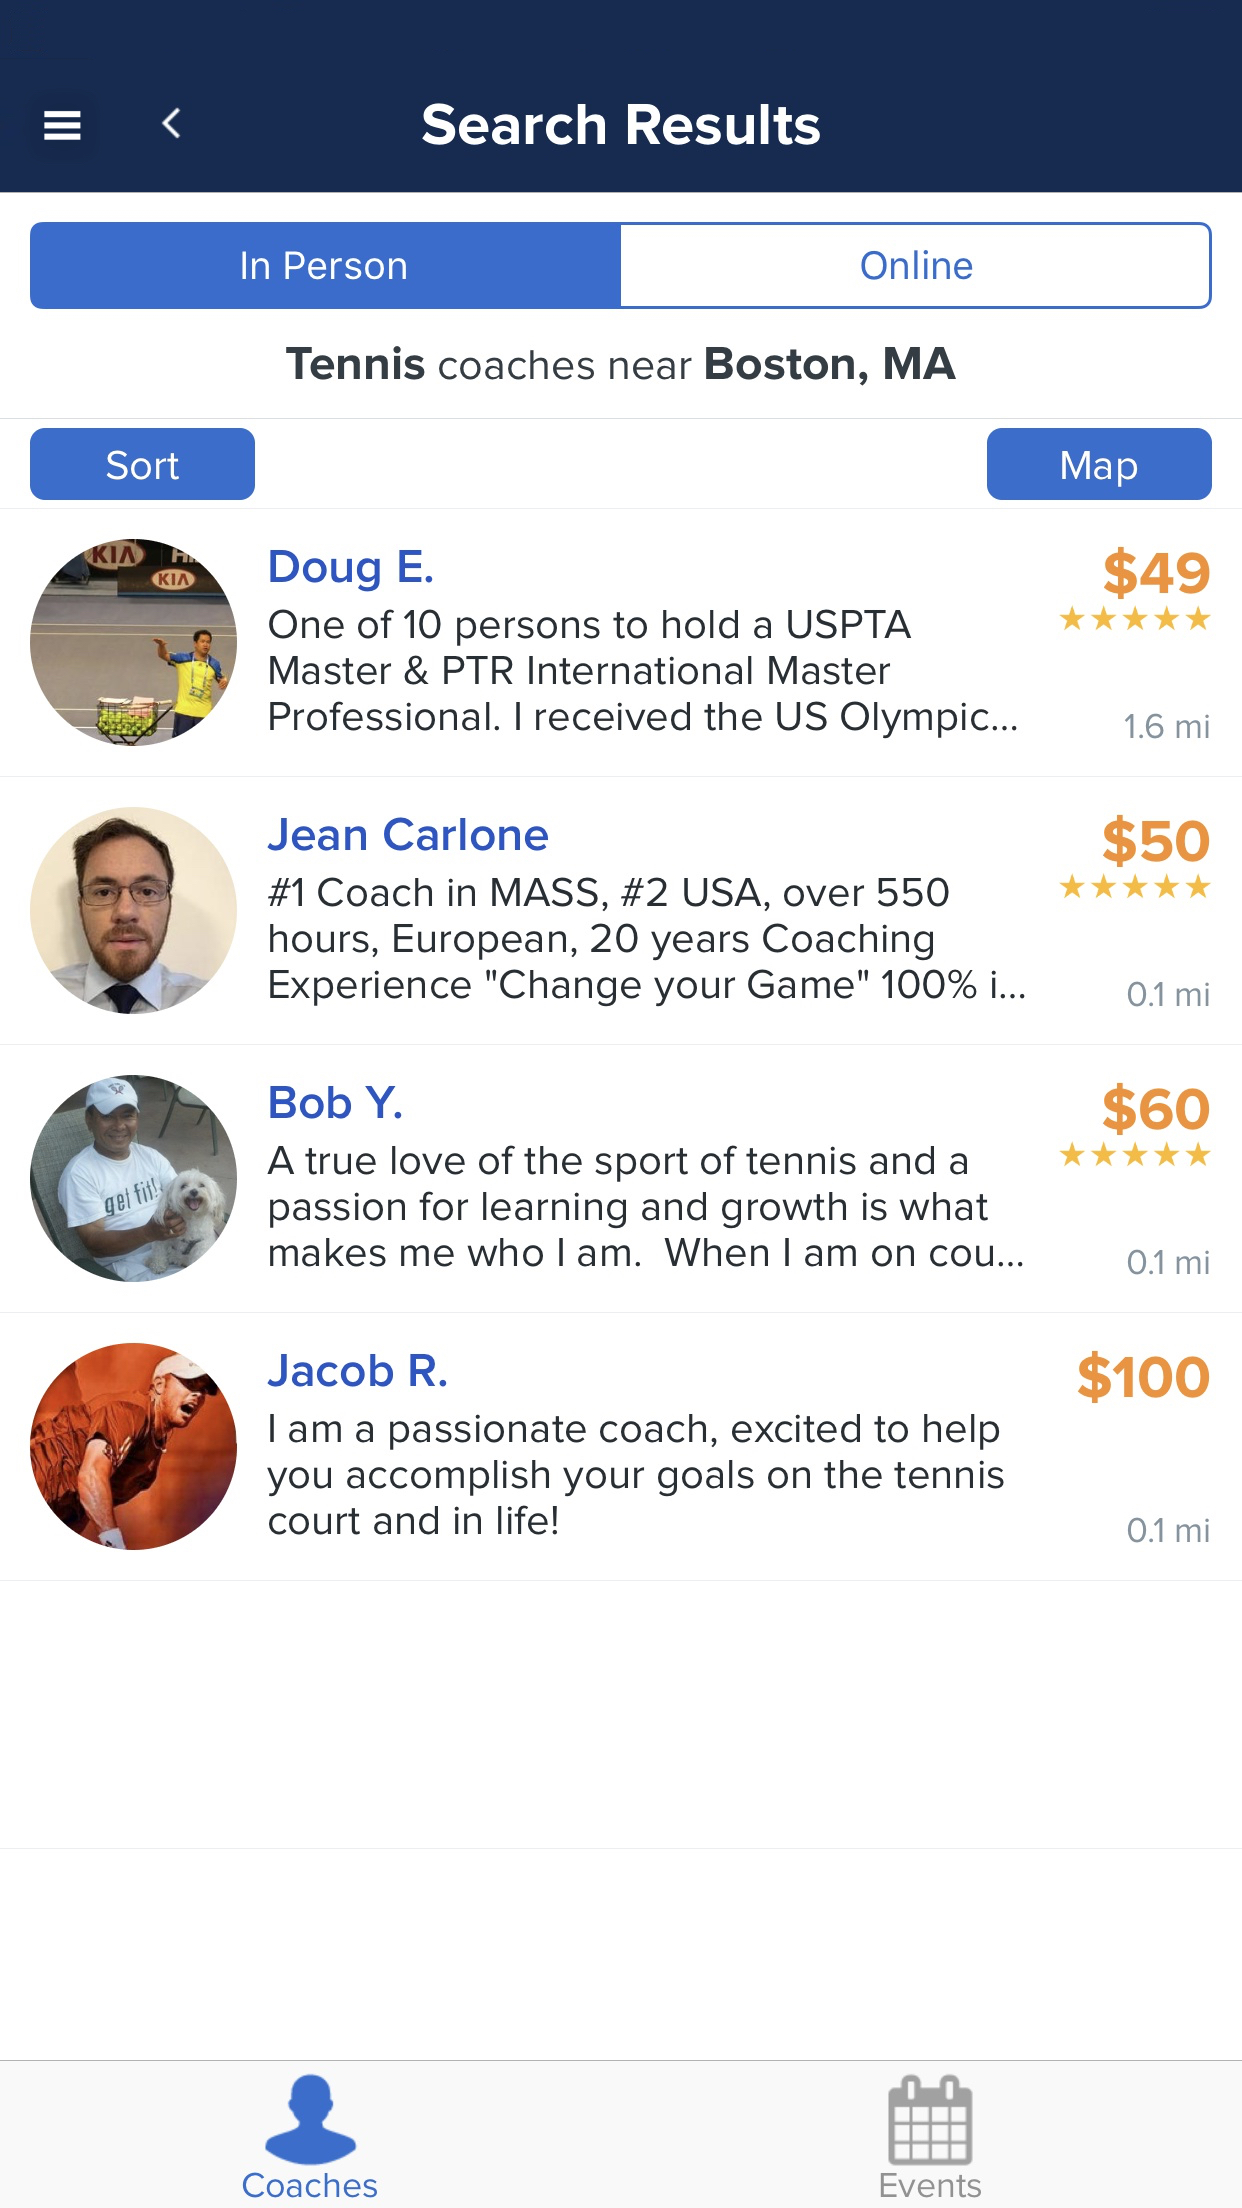Icon: (265, 2073, 358, 2166), (889, 2073, 974, 2167), (1059, 1140, 1212, 1168), (1059, 607, 1212, 632), (1059, 873, 1212, 899), (42, 111, 83, 143), (161, 108, 182, 140)
Image: (30, 1342, 240, 1551), (30, 805, 240, 1015), (30, 538, 240, 748), (30, 1075, 240, 1283)
Text: (268, 877, 1027, 1007), (268, 608, 1018, 740), (267, 1143, 1024, 1268), (267, 1413, 1005, 1536), (287, 346, 957, 387), (422, 102, 820, 147), (268, 817, 550, 852), (1078, 1350, 1210, 1404), (270, 550, 434, 593), (267, 1353, 447, 1388), (1102, 1081, 1210, 1136), (1102, 814, 1210, 869), (1102, 547, 1210, 601), (270, 1084, 403, 1121), (243, 2172, 379, 2197), (880, 2172, 983, 2199), (1124, 713, 1210, 740), (1127, 1516, 1210, 1544), (1127, 981, 1210, 1008), (1127, 1250, 1210, 1275)
TextButton: (30, 223, 622, 311), (622, 221, 1213, 309), (987, 428, 1213, 502), (30, 428, 256, 500)
